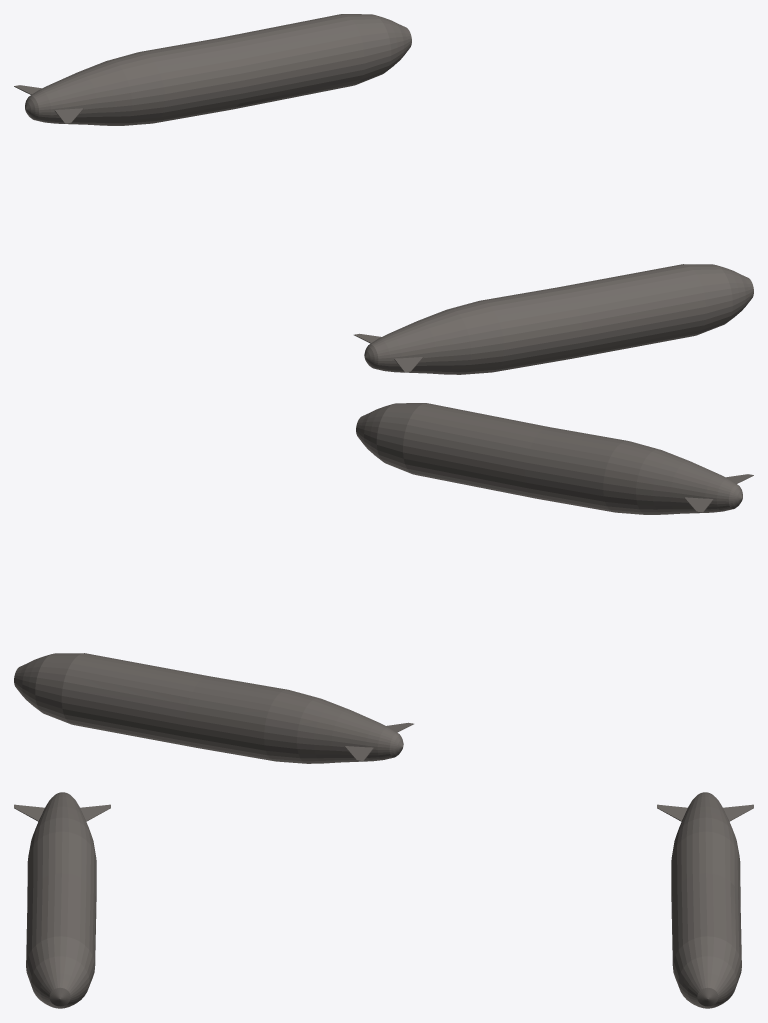
3 renders of one model, top to bottom at view 1: azimuth 30°, elevation 25°; view 2: azimuth 150°, elevation 25°; view 3: azimuth 270°, elevation 25°, orthographic. The views are drawn at different scales.
Parts seen in each view (by area): view 1: 円柱.001, 円柱.004; view 2: 円柱.004, 円柱.001; view 3: 円柱.001, 円柱.004.
Part boxes in pixels (box(x1,y1,x2,y2)): 円柱.001: box(354, 264, 753, 374); 円柱.004: box(14, 14, 411, 125); 円柱.004: box(14, 653, 413, 763); 円柱.001: box(356, 403, 753, 514); 円柱.001: box(14, 792, 110, 1008); 円柱.004: box(657, 792, 753, 1008).
Size of the model in its own units: 3.35 by 0.6468 by 5.86.
1 material, 1 textured.
